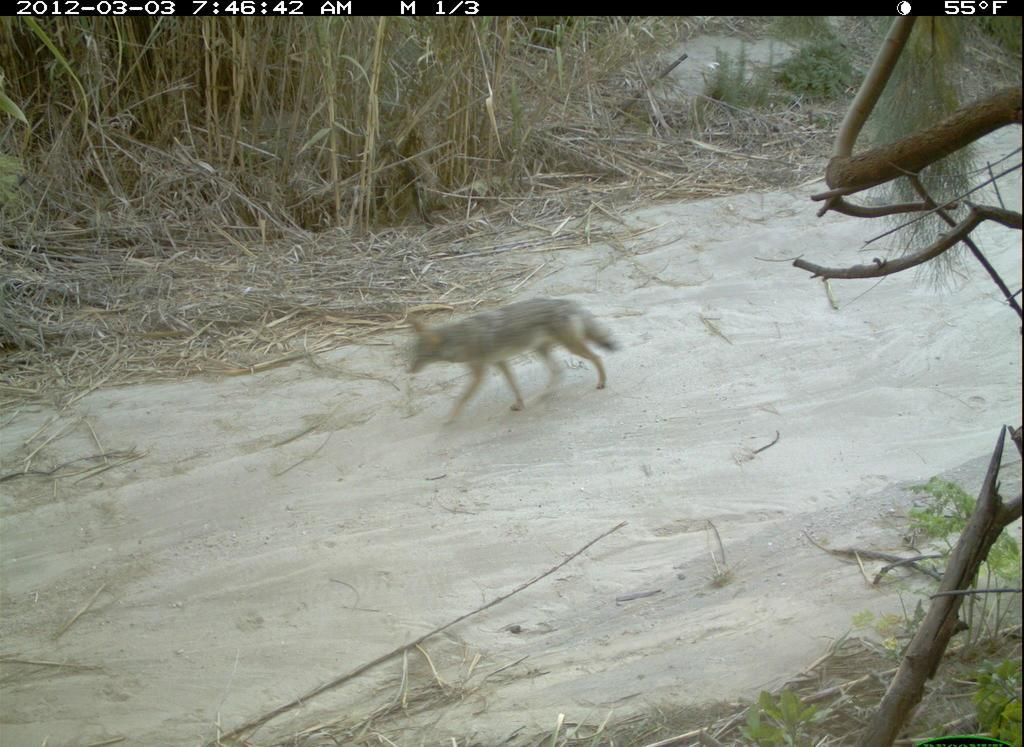coyote: (396, 290, 621, 425)
